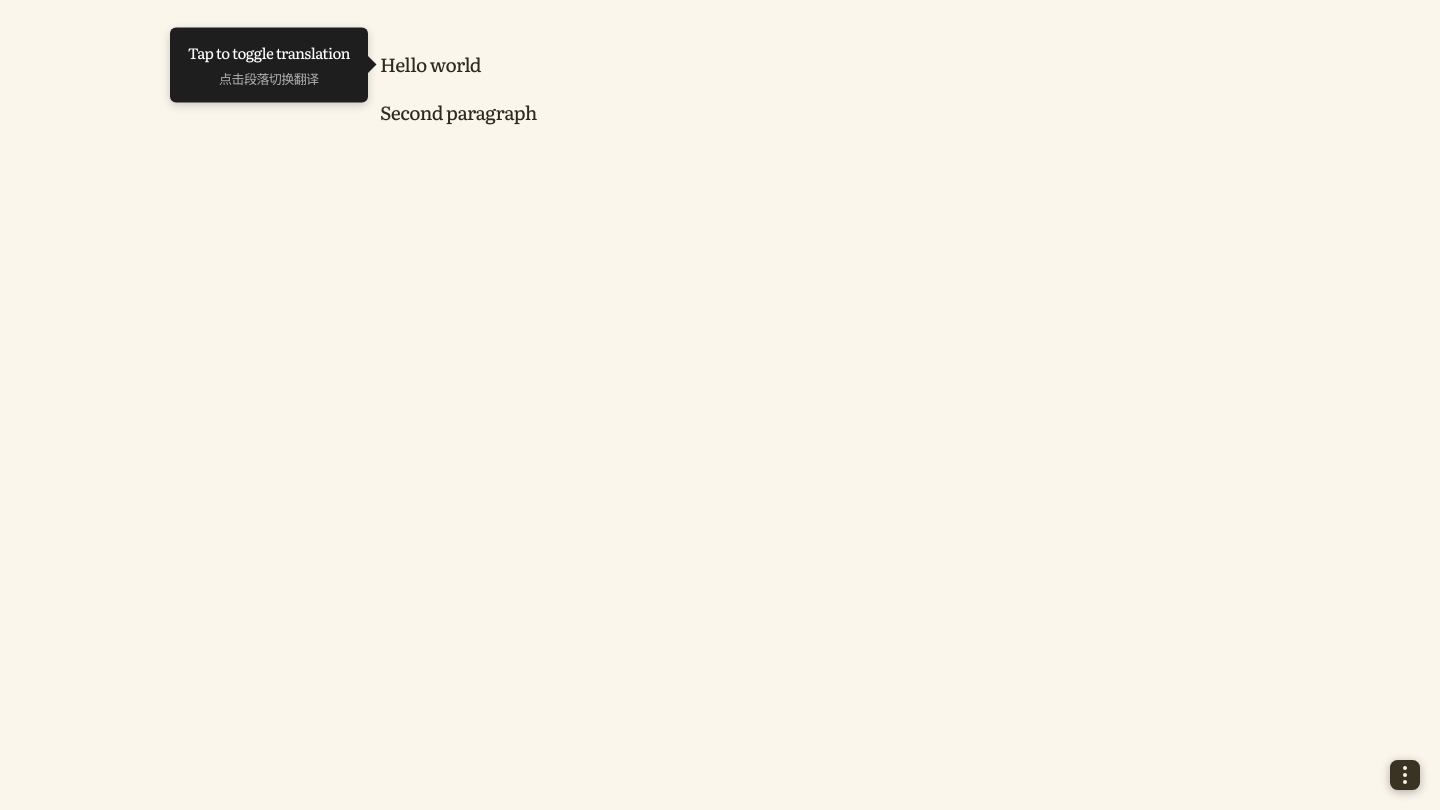
it: Onboarding Tooltip › dismisses tooltip on click and saves to localStorage
// Click the tooltip
Click the element with class "onboarding-tooltip" at (269, 65), box [170,27,368,102]
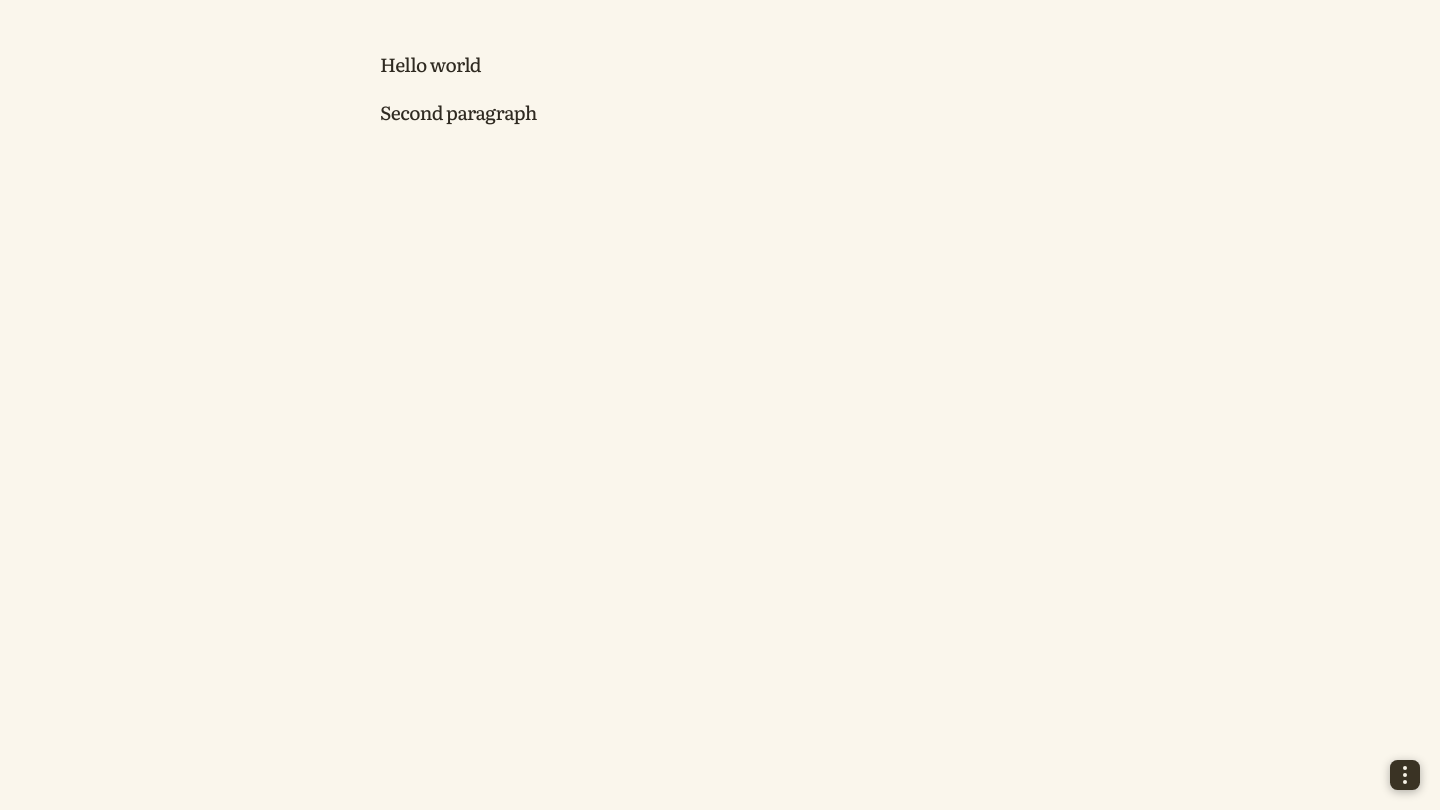
expect the element with class "onboarding-tooltip" is gone: met
